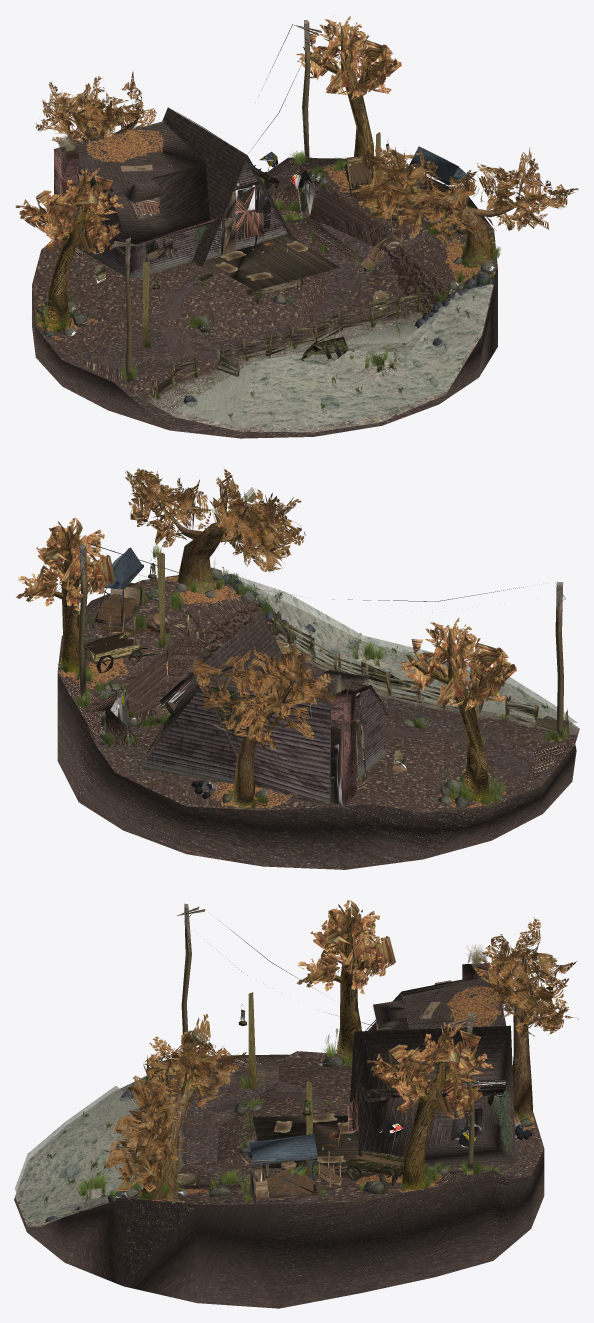
The model's file is forest.glb.
3 views of the same model, one above another, from view 1: azimuth 30°, elevation 25°; view 2: azimuth 150°, elevation 25°; view 3: azimuth 270°, elevation 25° (orthographic). The views are drawn at different scales.
Parts seen in each view (by area): view 1: polySurface724, polySurface3467, polySurface723, polySurface1108, polySurface2265, polySurface2601, polySurface2993, polySurface3044, polySurface2202, Prop_Boat:polySurface4, polySurface2188, pPlane7 (+5 smaller); view 2: polySurface724, polySurface3467, polySurface1108, polySurface2993, polySurface2265, polySurface723, polySurface2601, polySurface3044, polySurface2188, wood_workspace:polySurface56, polySurface2202, polySurface2999 (+5 smaller); view 3: polySurface724, polySurface3467, polySurface1108, polySurface723, polySurface2601, polySurface2993, polySurface2265, polySurface3044, wood_workspace:polySurface56, polySurface2188, pPlane7, polySurface2202 (+3 smaller).
Boxes of the visible parts, box(x1,y1,x2,y2) form: polySurface724: box(32, 157, 497, 438); polySurface3467: box(54, 107, 339, 292); polySurface723: box(175, 283, 492, 427); polySurface1108: box(351, 146, 578, 268); polySurface2265: box(15, 160, 123, 330); polySurface2601: box(296, 16, 401, 167); polySurface2993: box(35, 71, 156, 145); polySurface3044: box(409, 146, 468, 215); polySurface2202: box(294, 20, 321, 164); Prop_Boat:polySurface4: box(301, 336, 354, 365); polySurface2188: box(112, 237, 141, 380); pPlane7: box(86, 139, 134, 162); polySurface724: box(57, 575, 579, 869); polySurface3467: box(141, 611, 388, 805); polySurface1108: box(125, 468, 305, 594); polySurface2993: box(192, 642, 336, 808); polySurface2265: box(397, 617, 516, 801); polySurface723: box(235, 576, 577, 722); polySurface2601: box(16, 517, 115, 673); polySurface3044: box(95, 547, 143, 626); polySurface2188: box(555, 581, 565, 741); wood_workspace:polySurface56: box(84, 631, 154, 673); polySurface2202: box(78, 544, 87, 700); polySurface2999: box(141, 756, 234, 785); polySurface724: box(14, 1051, 544, 1308); polySurface3467: box(253, 963, 516, 1171); polySurface1108: box(102, 1014, 246, 1199); polySurface723: box(14, 1086, 157, 1220); polySurface2601: box(366, 1019, 493, 1189); polySurface2993: box(472, 917, 579, 1120); polySurface2265: box(296, 900, 395, 1064); polySurface3044: box(247, 1134, 317, 1203); wood_workspace:polySurface56: box(335, 1150, 404, 1185); polySurface2188: box(177, 903, 204, 1056); pPlane7: box(447, 986, 496, 1012); polySurface2202: box(450, 1012, 482, 1174).
Size of the model in its own units: 1.99 by 0.9987 by 1.92.
Materials: 36 (34 with a texture image).
